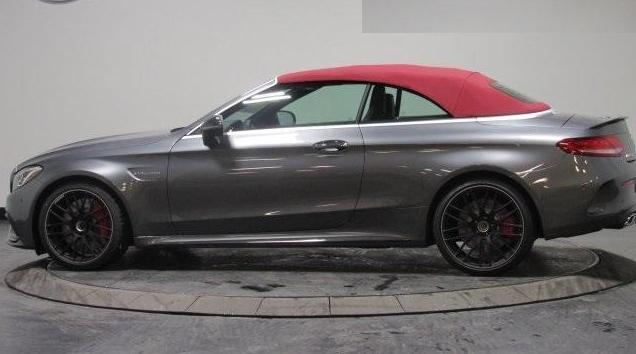C63AMG: (4, 59, 636, 283)
